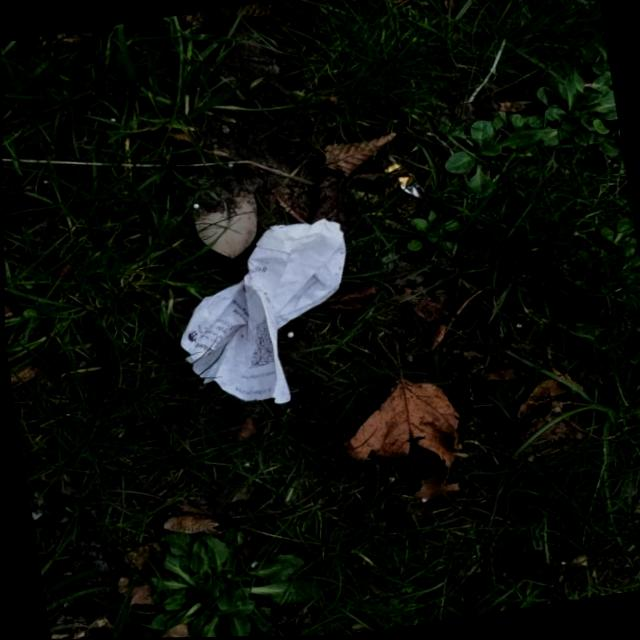Paper: (159, 213, 372, 421)
